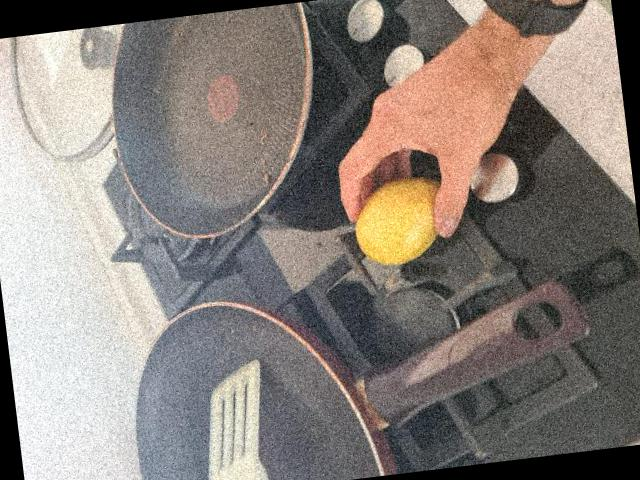lemon: (349, 180, 450, 268)
